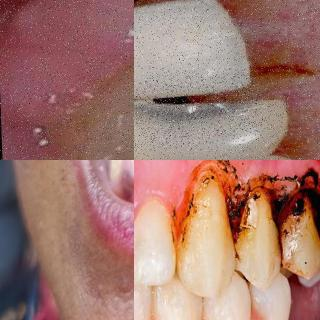Gum Swelling: (1, 0, 134, 128)
calculus: (110, 160, 126, 190)
cavities: (134, 53, 230, 147)
maligned: (106, 160, 132, 192)
